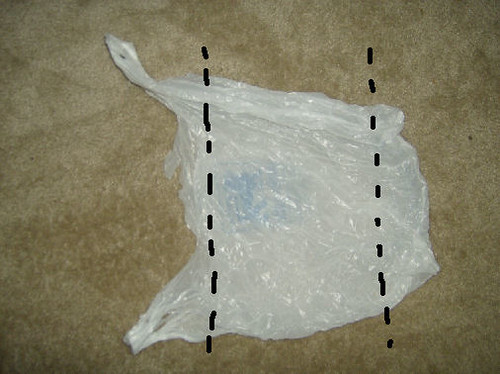plastic bag: (102, 31, 441, 356)
